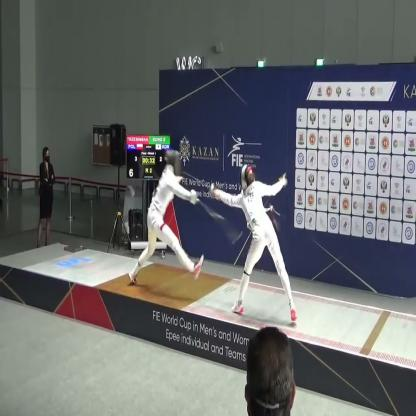crowd: (33, 139, 74, 258)
fencer: (206, 163, 307, 333), (124, 145, 207, 299)
